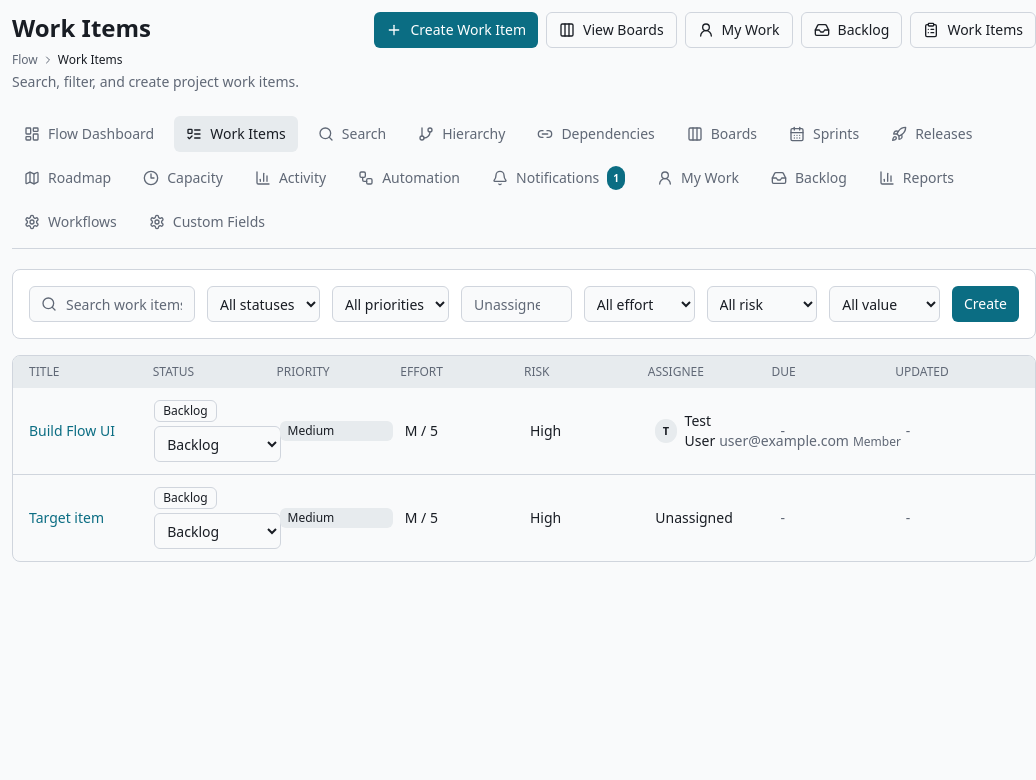
Scenario: Flow frontend screens › filters work items by workflow status and assignee member
The image size is (1036, 780).
Expected: the link "Build Flow UI" is shown, [29,421,115,440]
Select "Backlog" in the dropdown named "Status filter" at (264, 304), box [207,286,320,322]
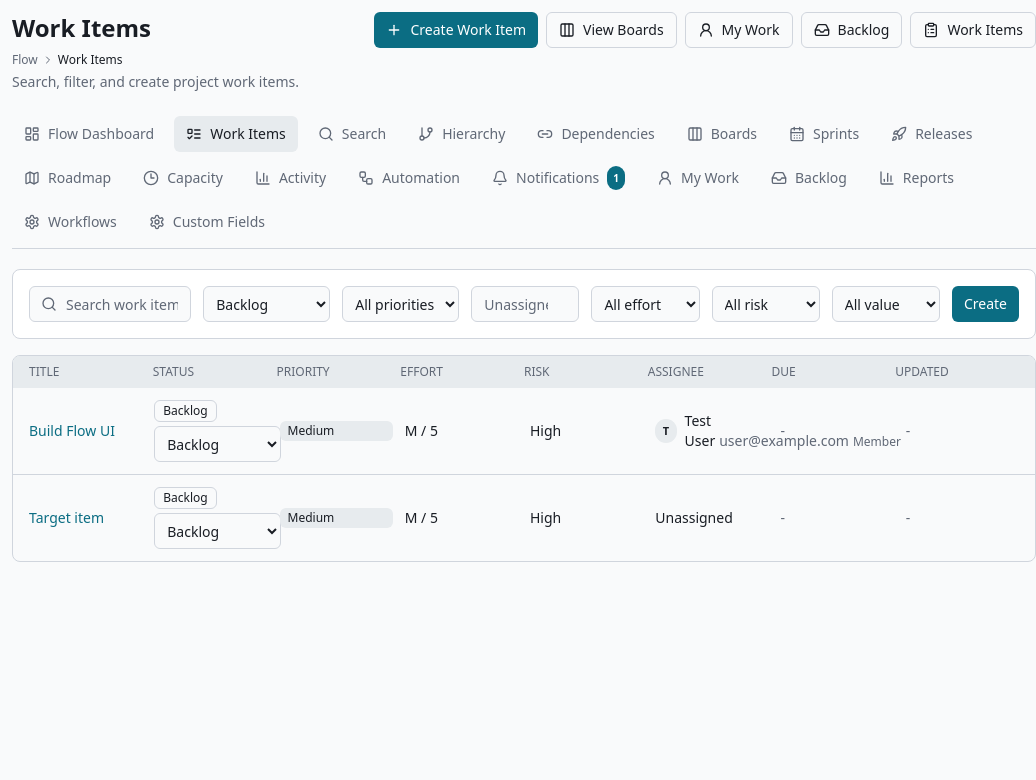
Type "1" into the field named "Assignee filter" at (525, 304), box [471,286,580,322]
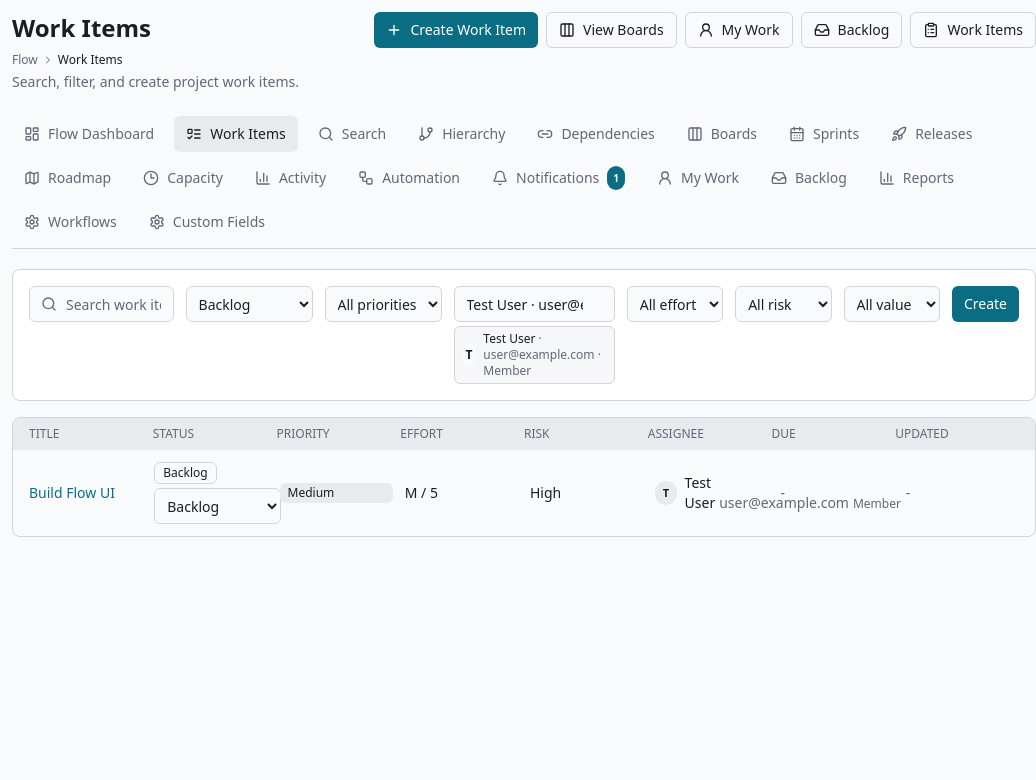
Expected: the link "Build Flow UI" is shown, [29,483,115,502]
Now the field named "Assignee filter" holds "Test User · user@example.com · Member", box [454,286,615,322]
